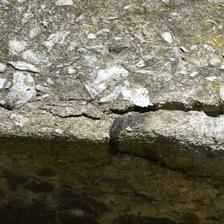Crack: (26, 46, 197, 79)
